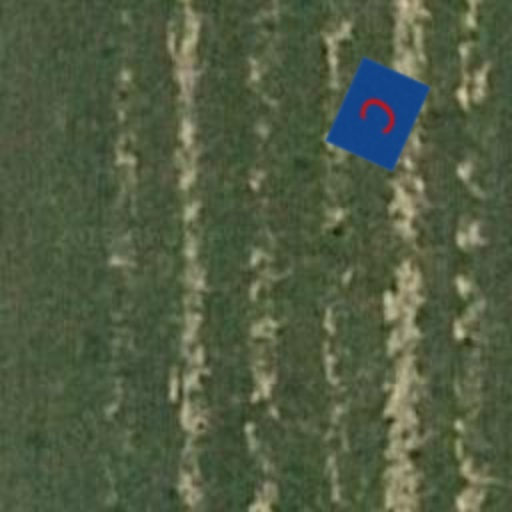rectangle: (316, 52, 440, 176)
